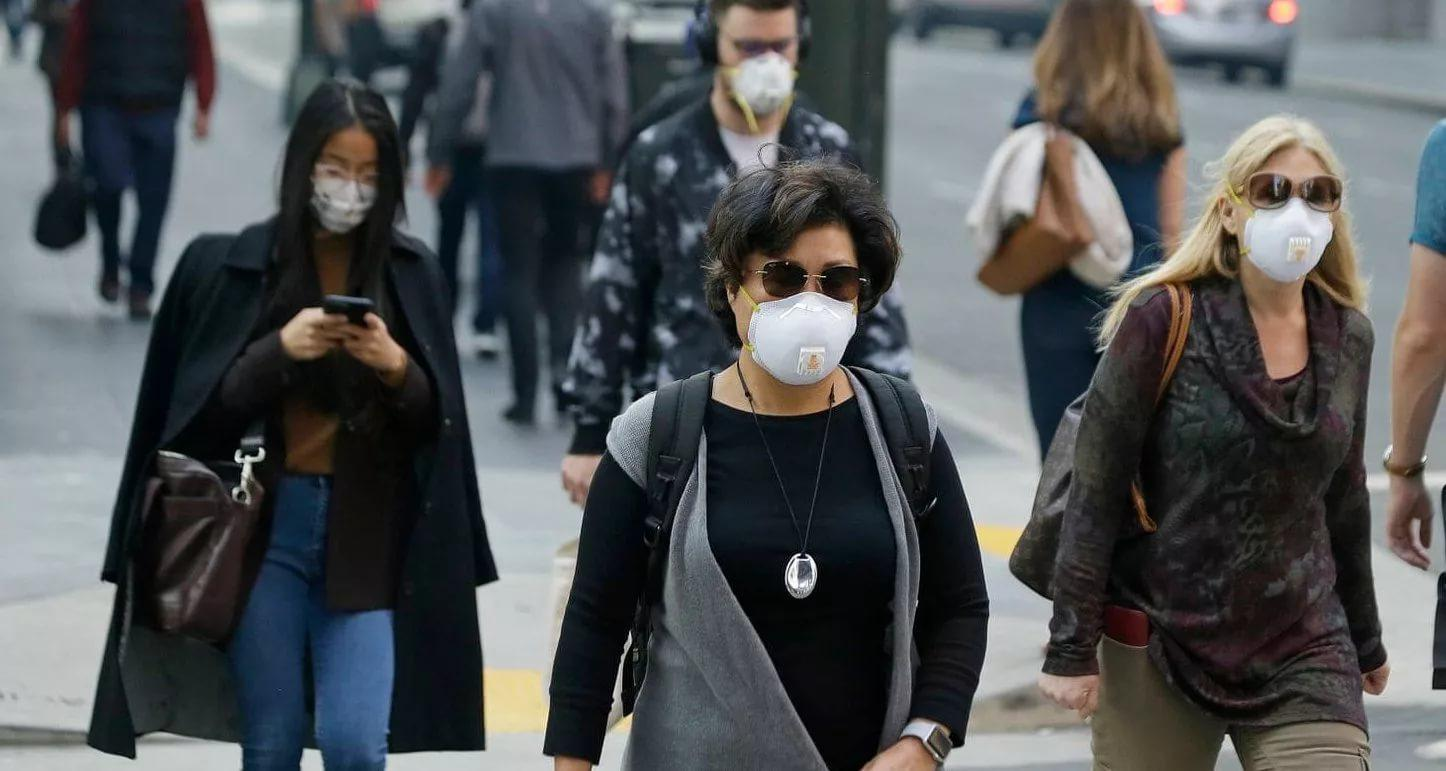mask: (737, 229, 862, 383), (1231, 148, 1337, 274), (714, 1, 802, 118), (300, 129, 386, 231)
